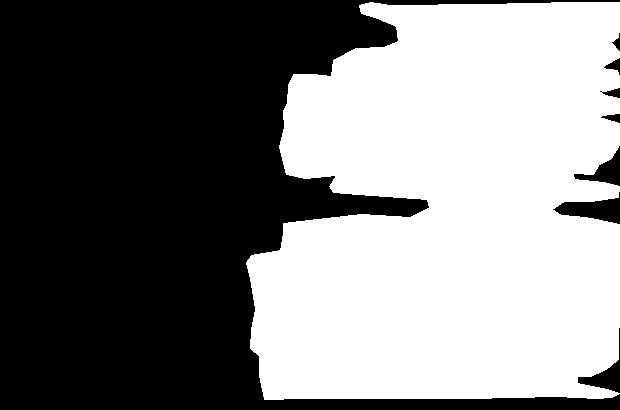type4: (244, 1, 620, 401)
